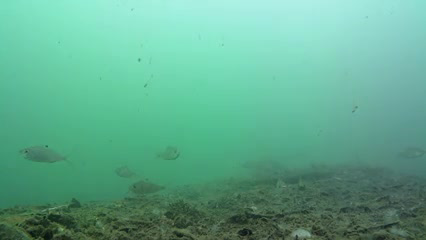smallfish: (18, 141, 79, 172), (130, 176, 166, 193)
